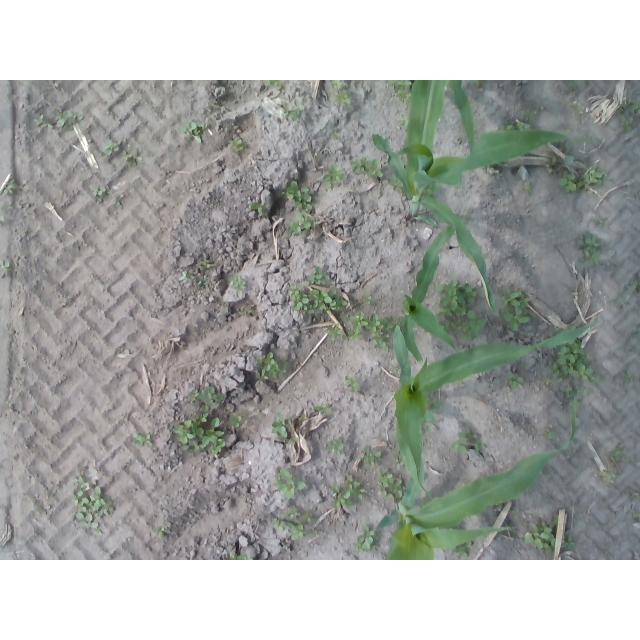Maize: (372, 80, 572, 313), (393, 321, 599, 494), (375, 396, 577, 560), (402, 215, 466, 361), (449, 80, 475, 154)
Weeds: (436, 278, 488, 340), (71, 473, 120, 537), (175, 412, 226, 456), (346, 312, 392, 354), (551, 345, 601, 381), (288, 286, 348, 315), (500, 284, 533, 332), (268, 514, 317, 543), (32, 108, 87, 133), (448, 425, 493, 455), (524, 517, 557, 556), (332, 473, 364, 511), (283, 179, 318, 213), (273, 465, 305, 500), (254, 351, 288, 381), (376, 469, 405, 504), (186, 386, 227, 410), (576, 231, 603, 267), (613, 98, 640, 132), (350, 155, 387, 179), (318, 161, 346, 191), (287, 213, 318, 239), (177, 119, 207, 145), (278, 99, 306, 126), (558, 168, 585, 196), (179, 270, 213, 291), (388, 81, 413, 108), (583, 163, 608, 190), (354, 527, 378, 554), (269, 410, 291, 439), (360, 443, 383, 470), (122, 144, 146, 168), (321, 434, 346, 457), (132, 429, 157, 451), (305, 266, 331, 287), (40, 480, 64, 500), (610, 443, 631, 465), (596, 467, 617, 489), (227, 274, 248, 294), (102, 140, 123, 160), (1, 177, 20, 196), (344, 373, 364, 391), (332, 92, 353, 109), (228, 136, 249, 152), (227, 410, 245, 428), (152, 525, 173, 540), (313, 403, 335, 417), (509, 372, 527, 389), (325, 321, 341, 340), (562, 529, 576, 550), (388, 176, 405, 193), (628, 481, 640, 503), (92, 186, 108, 202), (560, 385, 582, 396), (282, 506, 302, 518), (628, 276, 640, 296), (329, 80, 348, 92), (545, 428, 560, 443), (250, 201, 266, 215), (496, 123, 532, 129), (567, 81, 586, 92), (522, 182, 535, 198), (520, 108, 537, 120), (623, 368, 635, 385), (609, 298, 621, 315), (569, 101, 583, 115), (598, 217, 611, 232), (238, 308, 255, 319), (359, 294, 374, 306), (0, 261, 12, 276), (396, 115, 408, 129), (112, 193, 124, 207), (1, 201, 16, 212), (202, 260, 215, 272), (288, 434, 300, 447), (224, 556, 253, 561), (48, 80, 64, 89), (629, 510, 640, 523), (266, 80, 280, 89), (298, 414, 310, 422), (1, 215, 8, 228), (471, 80, 481, 89), (565, 125, 575, 133), (331, 132, 341, 137), (546, 167, 554, 173), (552, 157, 557, 163)
